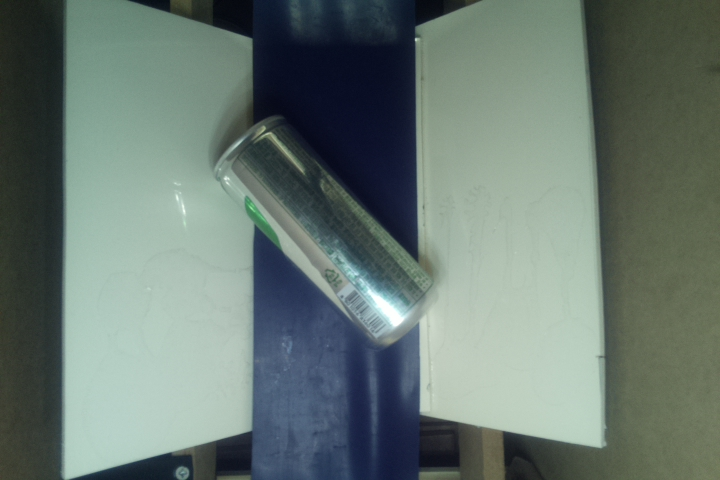can: (209, 113, 443, 352)
